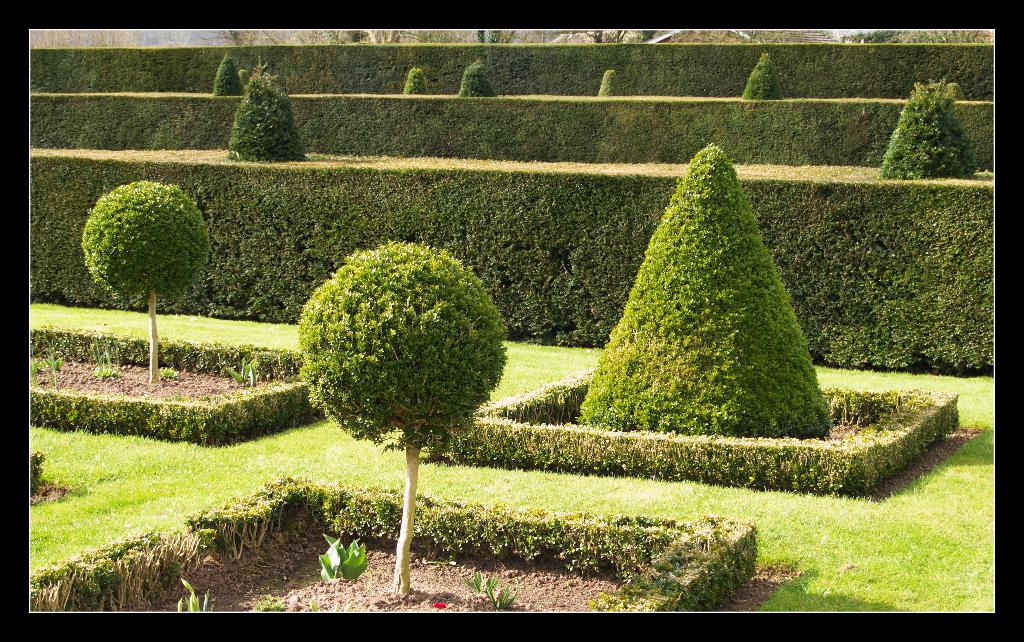Tree: (293, 237, 510, 593), (583, 108, 810, 433), (77, 178, 209, 383), (876, 76, 982, 178), (229, 60, 305, 157), (737, 48, 787, 99), (213, 52, 246, 96), (456, 61, 494, 99), (597, 67, 622, 99), (405, 62, 426, 97)
